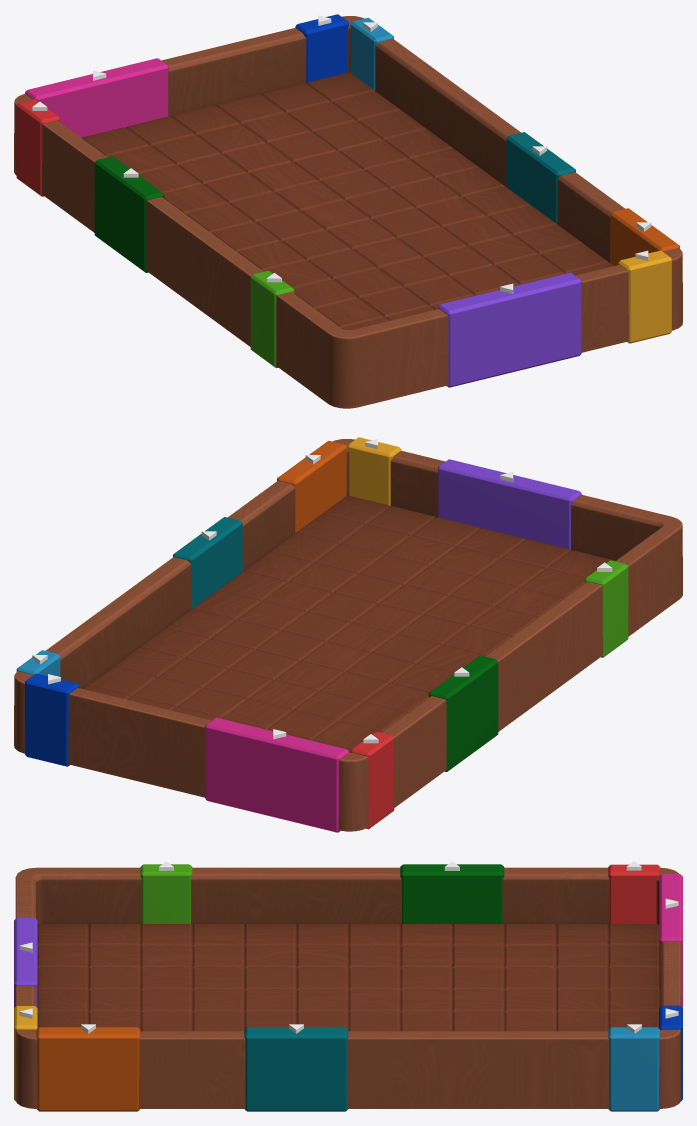
File: Map.fbx
3 views of the same model, one above another, from view 1: azimuth 30°, elevation 25°; view 2: azimuth 150°, elevation 25°; view 3: azimuth 270°, elevation 25° (orthographic).
Visible parts, largest first — view 1: Map; view 2: Map; view 3: Map.
Part boxes in pixels (x1,y1,x2,y2): Map: [14, 14, 682, 408]; Map: [14, 437, 682, 832]; Map: [14, 861, 682, 1111].
Size of the model in its own units: 7.87 by 1.72 by 12.87.
Materials: 1 (1 with a texture image).
